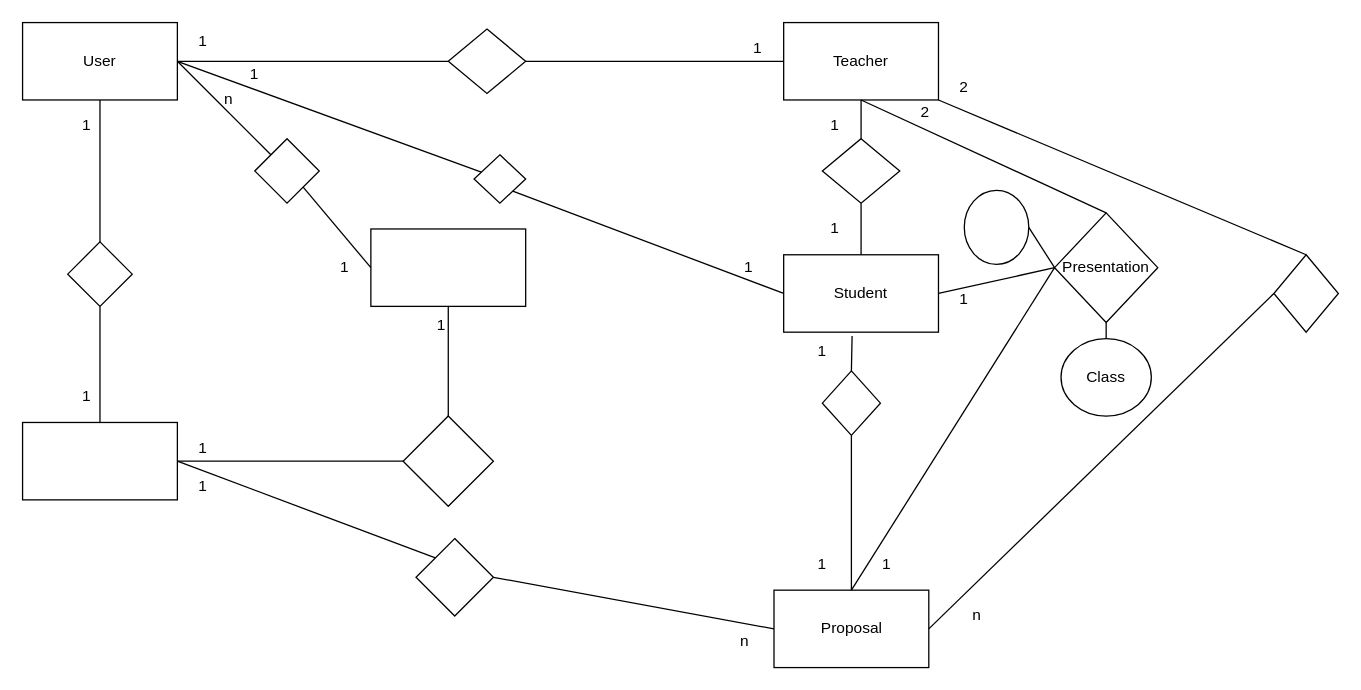
This 1361x690 diagram has some shape labels left out. Here are the shapes that lost their labels. From the top down, the centre of each, then its label:
[996,226]: Time
[448,267]: Group
[99,460]: Manager
